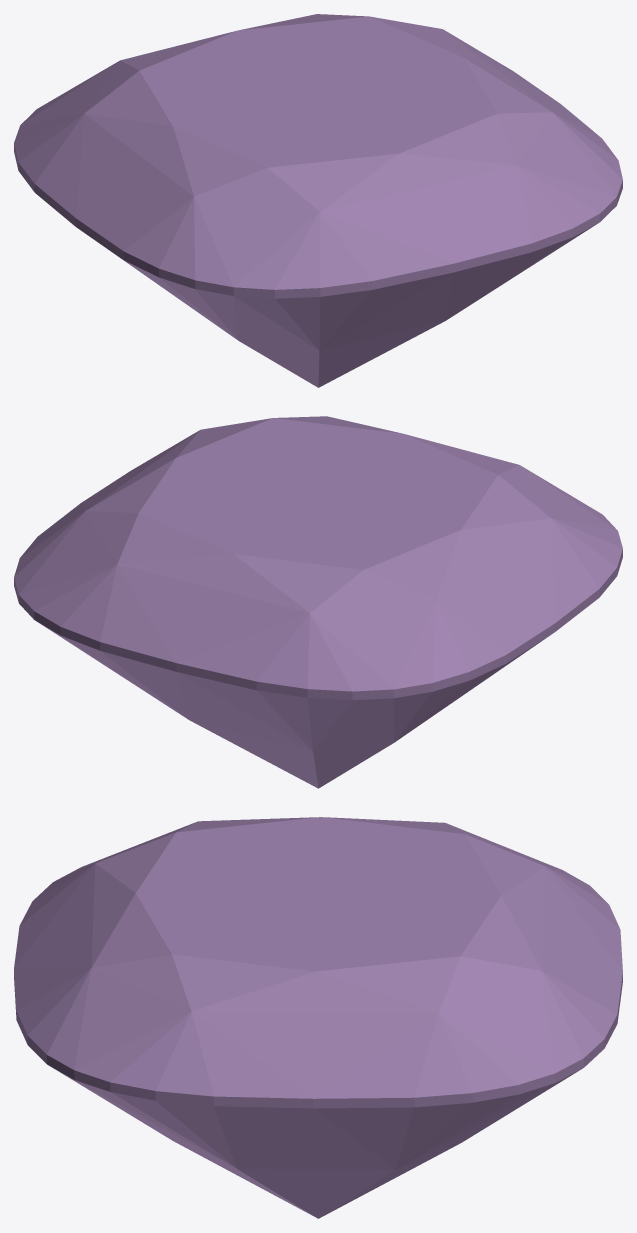
File: stone-spinel.glb
3 renders of one model, top to bottom at view 1: azimuth 30°, elevation 25°; view 2: azimuth 150°, elevation 25°; view 3: azimuth 270°, elevation 25°, orthographic. The views are drawn at different scales.
Parts seen in each view (by area): view 1: Gemstone Spinel; view 2: Gemstone Spinel; view 3: Gemstone Spinel.
Part boxes in pixels (x1,y1,x2,y2): Gemstone Spinel: [14, 14, 622, 387]; Gemstone Spinel: [14, 416, 622, 788]; Gemstone Spinel: [14, 817, 622, 1218].
Size of the model in its own units: 2 by 1.18 by 2.
